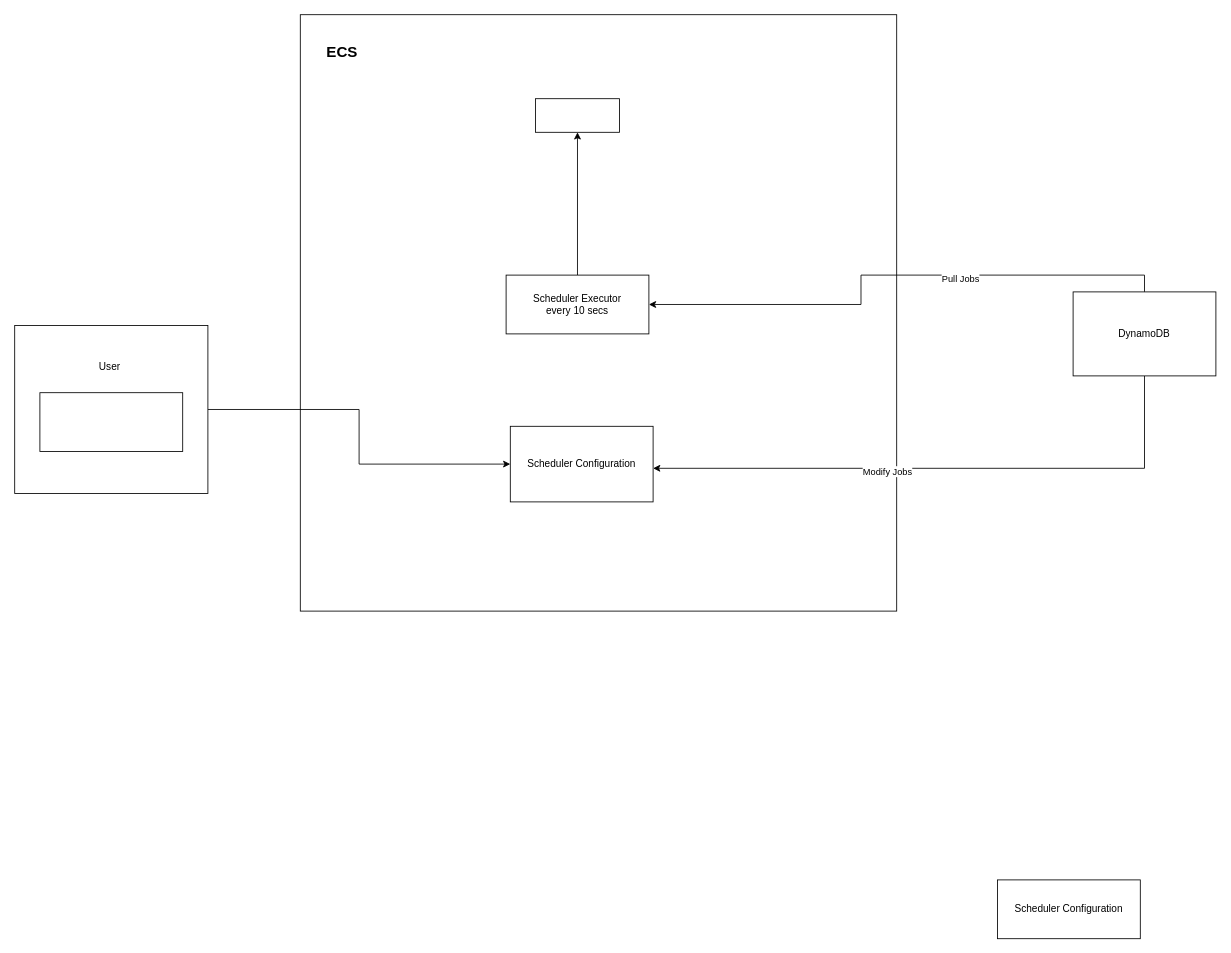
This 1231x953 diagram has some shape labels left out. The centre of each missing label's shape, as x and y in pixels:
"eSNAP Endpoint" belongs at point (577, 115).
"Load Dashboard" belongs at point (111, 422).
